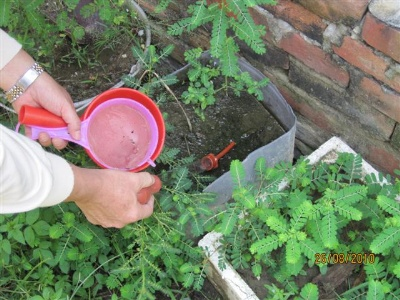bowl: (83, 88, 166, 172)
